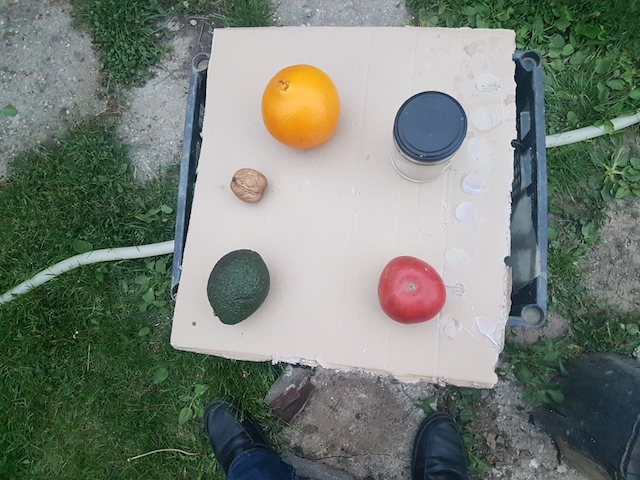apple: (375, 252, 446, 322)
avocado: (204, 245, 272, 327)
nut: (228, 167, 269, 205)
orange: (261, 61, 340, 149)
recipient: (393, 90, 468, 163)
